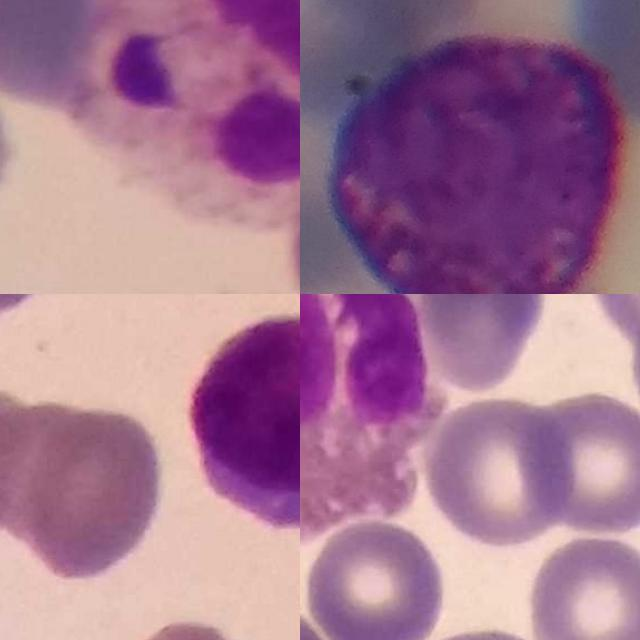Basophil: (328, 34, 626, 294)
Eosinophil: (300, 294, 435, 529)
Lymphocyte: (189, 317, 300, 531)
Neutrophil: (74, 0, 300, 224)
